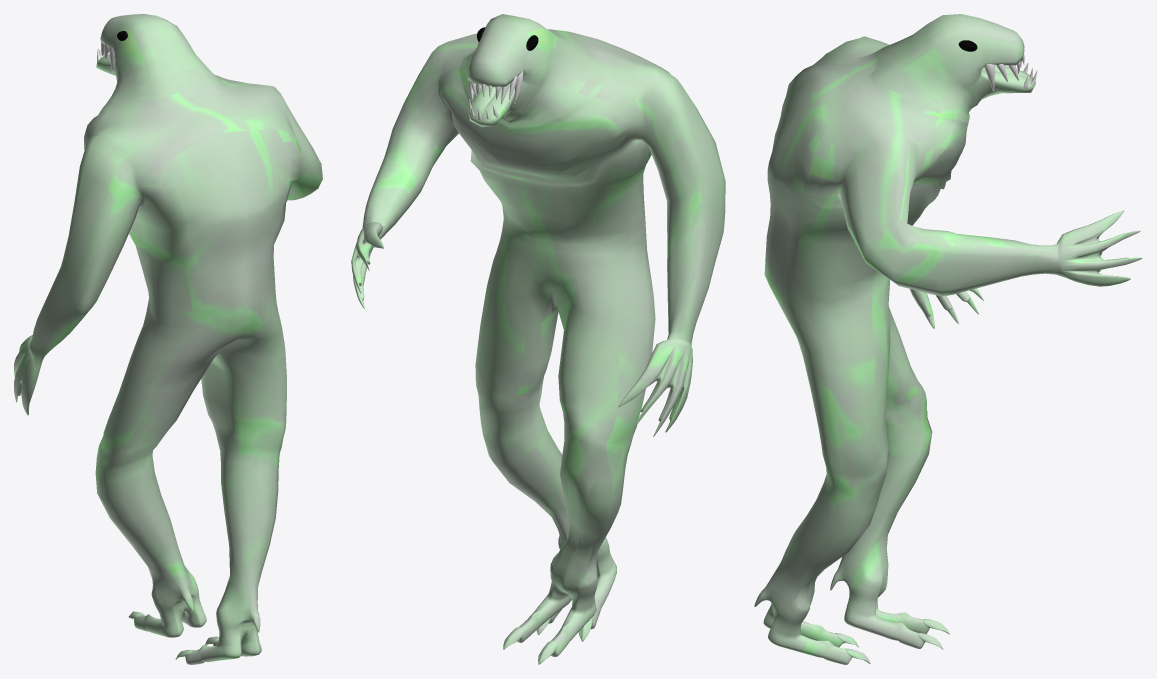
The model's file is Berserkercorrer.0080.obj.
3 views of the same model, side by side, from view 1: azimuth 30°, elevation 25°; view 2: azimuth 150°, elevation 25°; view 3: azimuth 270°, elevation 25° (orthographic). The views are drawn at different scales.
Parts seen in each view (by area): view 1: polySurface27; view 2: polySurface27; view 3: polySurface27.
Boxes of the visible parts, x1,y1,x2,y2 form: polySurface27: (14,14,322,664); polySurface27: (351,14,725,664); polySurface27: (754,14,1142,664).
Bounding box in the file's own units: 11.68 × 23.99 × 13.23.
Materials: 1 (1 with a texture image).
